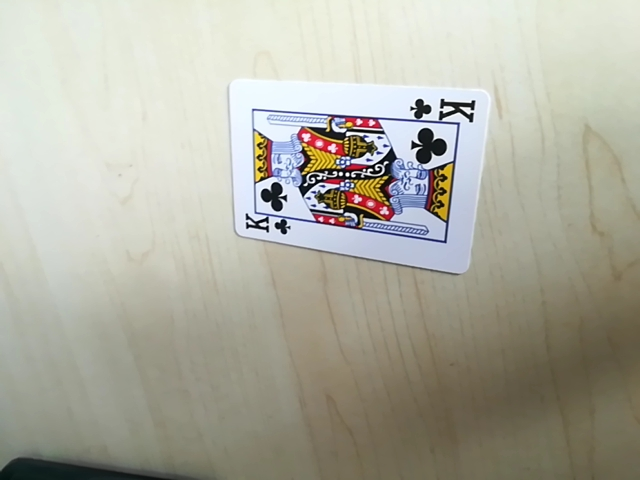mh k: (409, 96, 478, 124), (239, 209, 290, 239)
